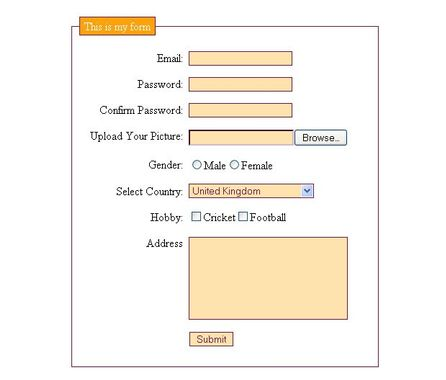_form_: (29, 9, 406, 368)
button: (295, 128, 348, 146), (188, 332, 233, 347)
checkbox: (190, 210, 202, 222), (238, 210, 249, 222)
checkbox_with_label: (151, 209, 203, 224), (237, 209, 287, 223), (188, 209, 234, 223)
field: (186, 235, 348, 320), (185, 129, 295, 146), (186, 50, 293, 67), (187, 76, 294, 93), (186, 102, 293, 118)
field_with_label: (146, 234, 350, 321), (91, 127, 297, 148), (100, 101, 294, 120), (138, 74, 295, 95), (156, 49, 293, 68)
radio: (191, 159, 202, 170), (229, 159, 239, 169)
radio_with_label: (149, 158, 204, 171), (228, 158, 274, 171), (189, 157, 225, 171)
select: (188, 183, 316, 199)
